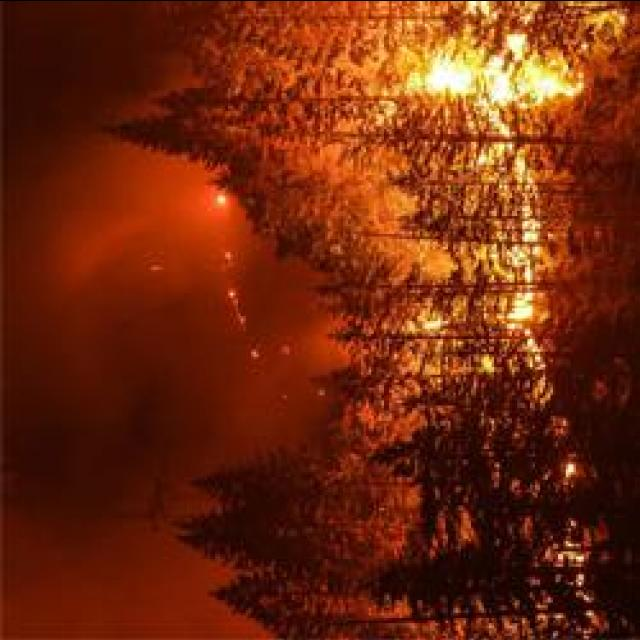fire: (487, 64, 577, 106), (423, 60, 481, 100), (511, 294, 537, 326), (518, 219, 542, 243)
smoke: (0, 465, 146, 638), (47, 189, 151, 299), (122, 165, 202, 269), (200, 354, 304, 432), (70, 366, 176, 436)
